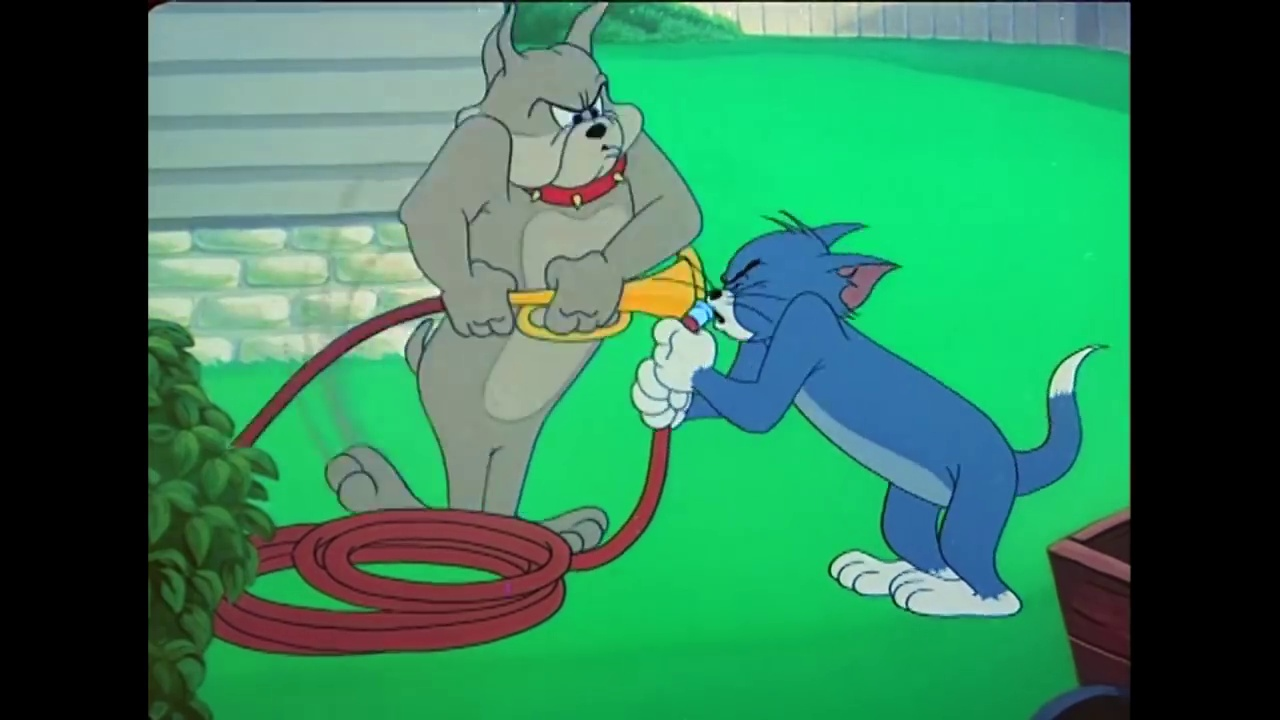spike: (478, 1, 654, 212)
tom: (697, 205, 909, 352)
